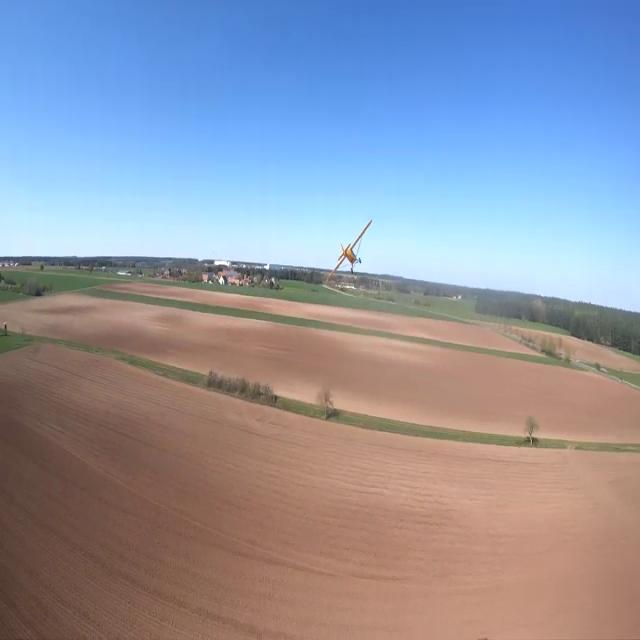iha: (324, 220, 372, 280)
